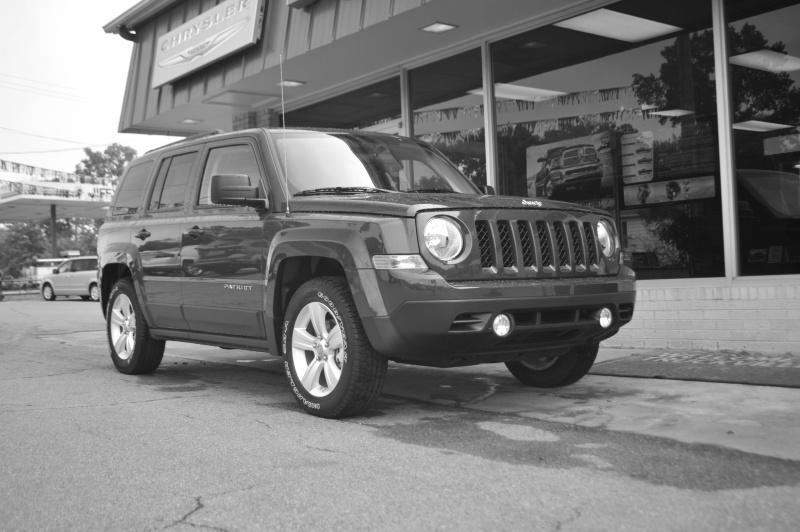car: (98, 123, 641, 425)
